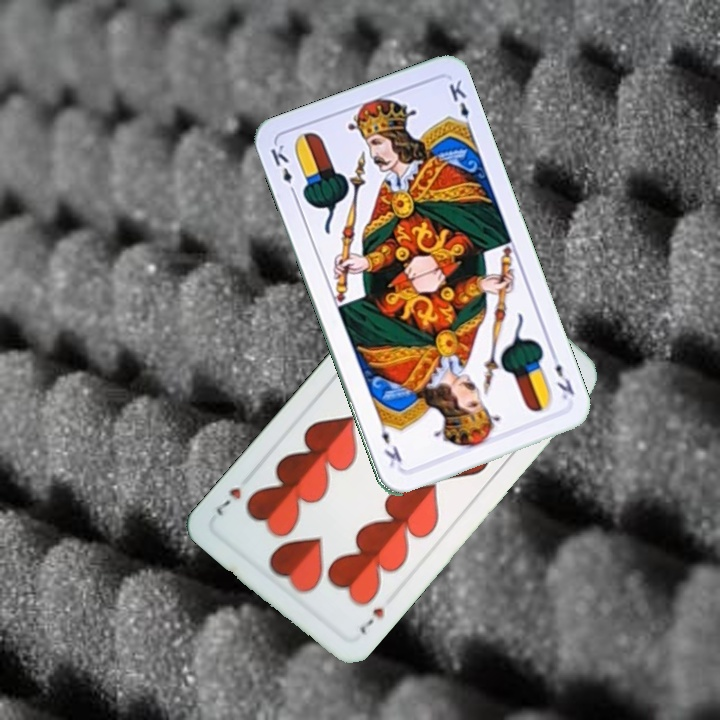EK: (266, 140, 299, 199), (547, 348, 577, 403)
H7: (354, 603, 387, 639)
